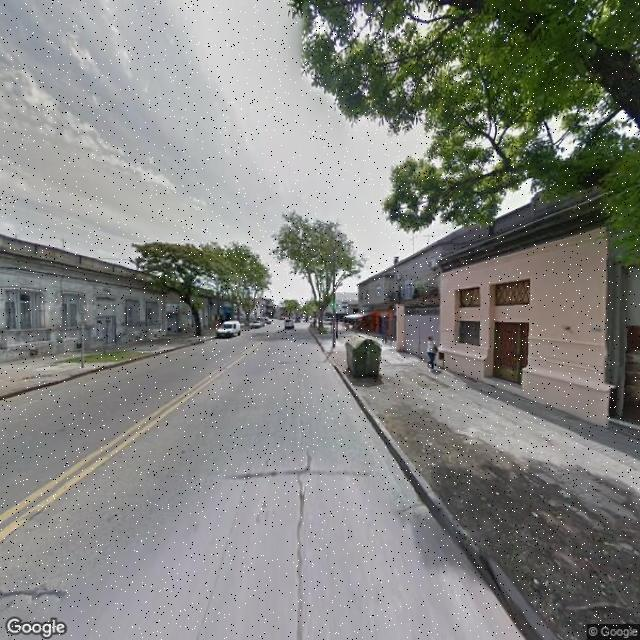garbage container: (342, 332, 388, 389)
